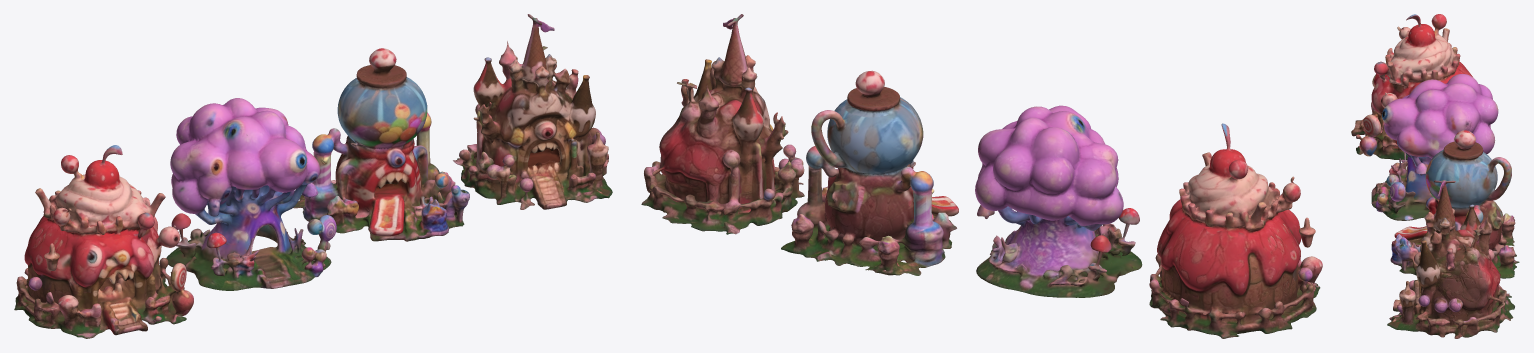
File: Meshy_AI_Candy_Monster_Houses_1019073955_texture.fbx
3 renders of one model, left to right at view 1: azimuth 30°, elevation 25°; view 2: azimuth 150°, elevation 25°; view 3: azimuth 270°, elevation 25°, orthographic. The views are drawn at different scales.
Visible parts, largest first — view 1: Mesh_0; view 2: Mesh_0; view 3: Mesh_0.
Part boxes in pixels (x1,y1,x2,y2): Mesh_0: (14,14,612,338); Mesh_0: (641,14,1322,338); Mesh_0: (1351,14,1519,338).
Size of the model in its own units: 190 by 50.61 by 58.27.
1 material, 1 textured.
